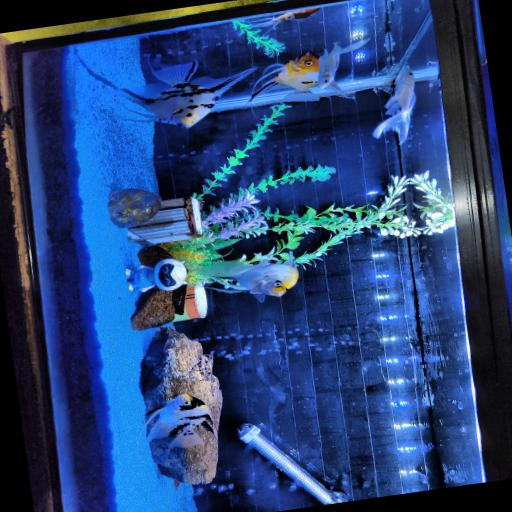Fish: (80, 60, 254, 128), (188, 253, 297, 301), (145, 394, 213, 447), (250, 52, 319, 102), (373, 67, 415, 145), (317, 39, 368, 93), (249, 8, 318, 31)
